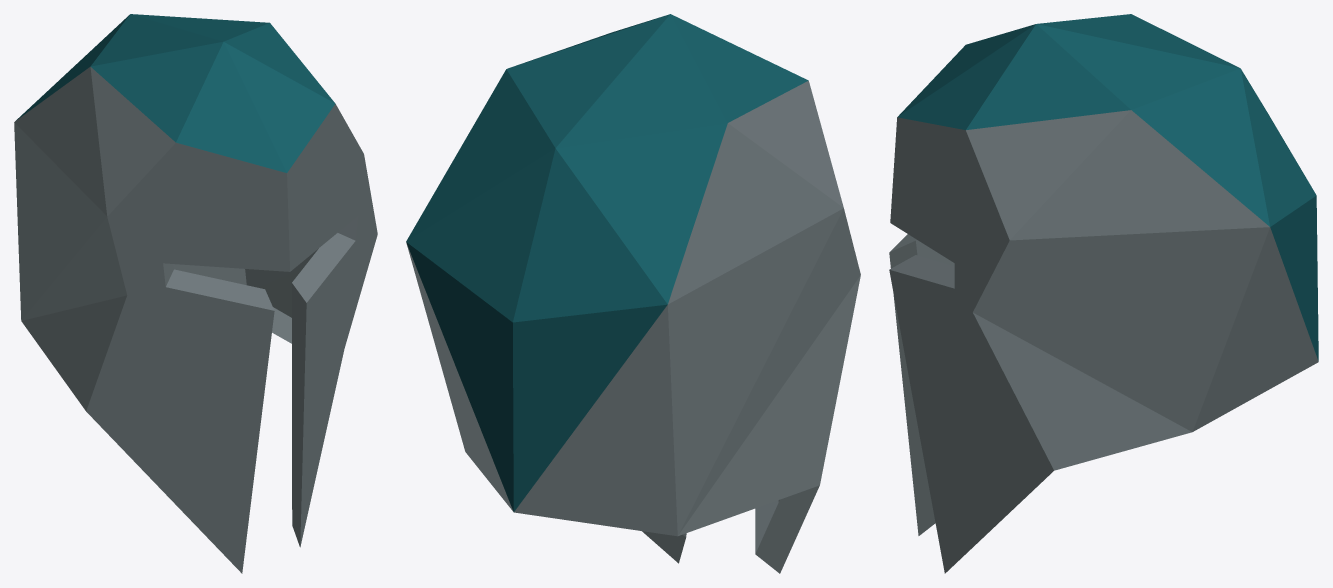
File: helmet_2_blue_paint.glb
The picture shows the model from 3 angles, left to right: view 1: azimuth 30°, elevation 25°; view 2: azimuth 150°, elevation 25°; view 3: azimuth 270°, elevation 25°; orthographic projection. The views are drawn at different scales.
Visible parts, largest first — view 1: Cube.001; view 2: Cube.001; view 3: Cube.001.
Part boxes in pixels (left/top/right/bottom): Cube.001: left=14, top=14, right=377, bottom=573; Cube.001: left=406, top=14, right=860, bottom=573; Cube.001: left=889, top=14, right=1318, bottom=573.
Size of the model in its own units: 0.2176 by 0.3898 by 0.2856.
